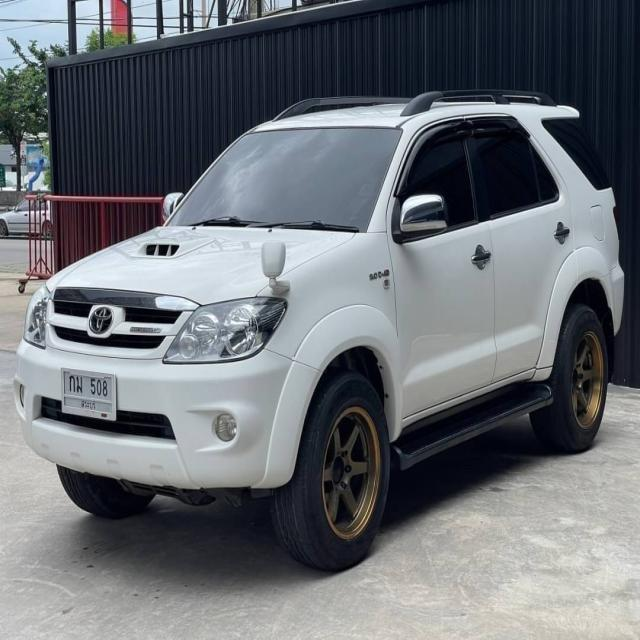license_plate: (59, 366, 117, 420)
